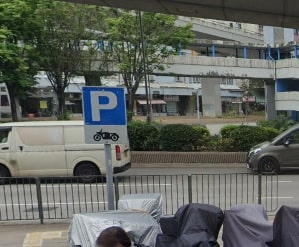Parking: (79, 81, 130, 149)
